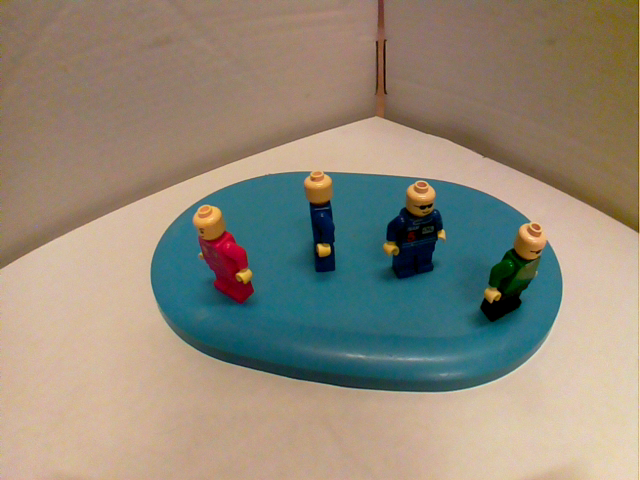Postac LEGO: (476, 218, 553, 326), (186, 199, 260, 306), (380, 175, 450, 284), (299, 166, 344, 281)
